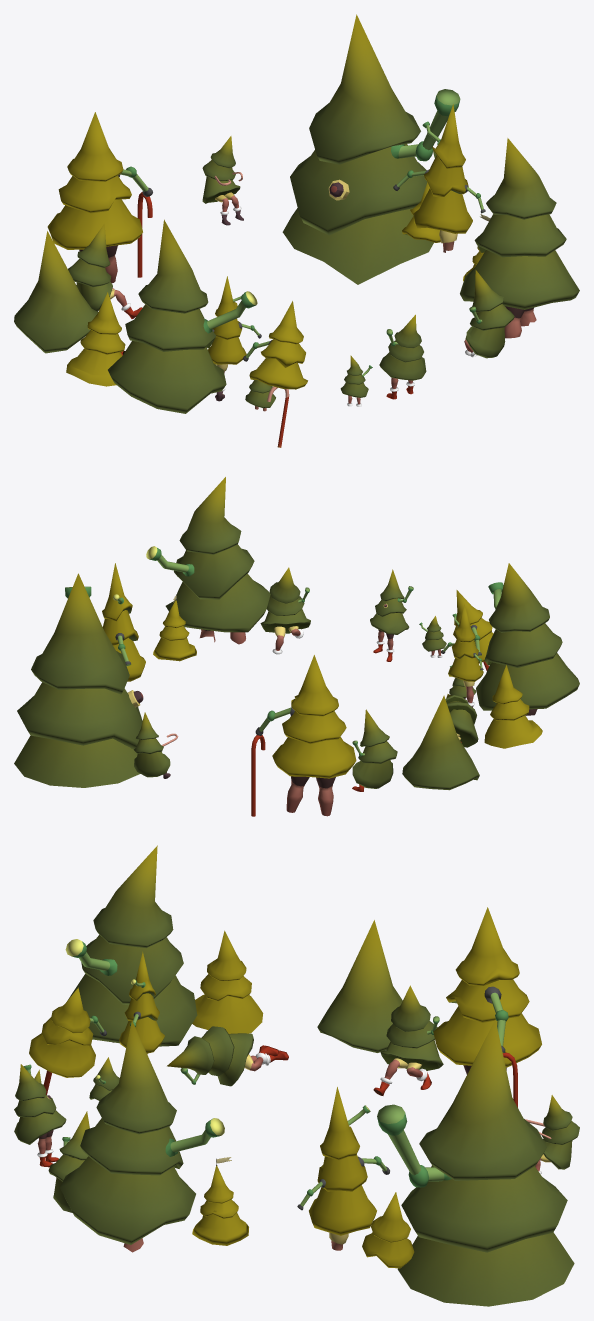
The model's file is Stadium_Trees.fbx.
3 views of the same model, one above another, from view 1: azimuth 30°, elevation 25°; view 2: azimuth 150°, elevation 25°; view 3: azimuth 270°, elevation 25° (orthographic). The views are drawn at different scales.
Parts seen in each view (by area): view 1: Trees1; view 2: Trees1; view 3: Trees1.
Part boxes in pixels (left/top/right/bottom): Trees1: left=14, top=14, right=579, bottom=447; Trees1: left=14, top=477, right=579, bottom=816; Trees1: left=14, top=845, right=579, bottom=1306.
Size of the model in its own units: 2036 by 957 by 1859.
